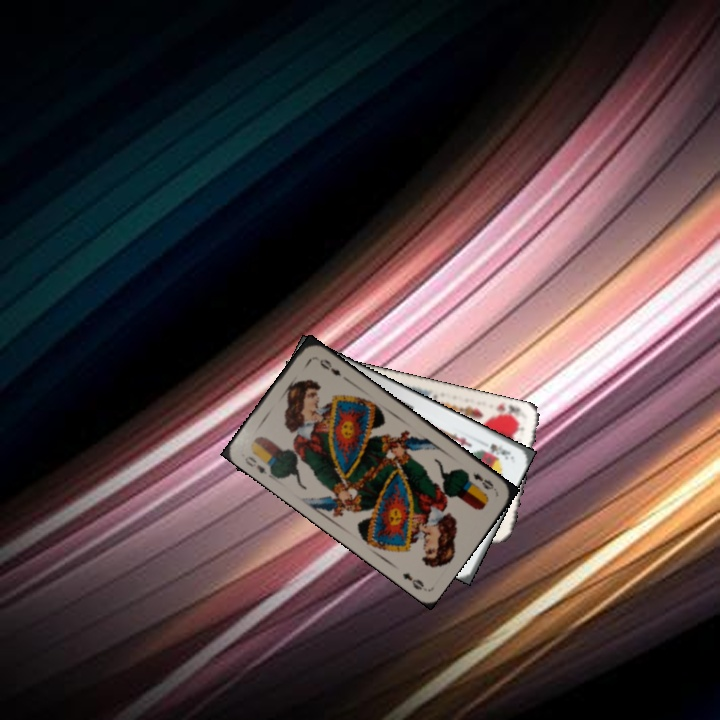EO: (462, 468, 499, 493), (241, 452, 270, 477)
HK: (488, 399, 523, 423)
SK: (486, 439, 513, 462)
